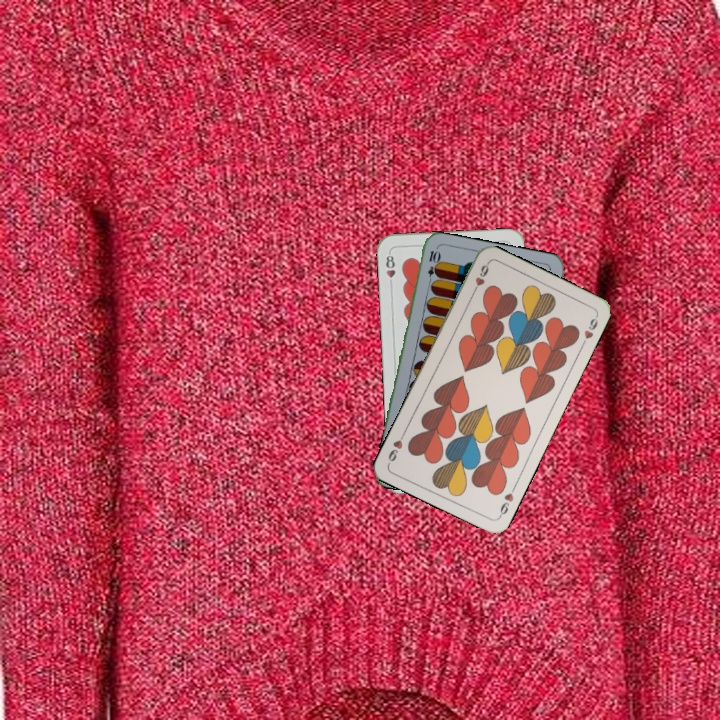E10: (423, 246, 441, 287)
H8: (382, 248, 398, 289)
H9: (468, 259, 491, 297), (495, 482, 518, 520)
